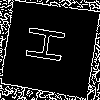H: (24, 23, 75, 67)
